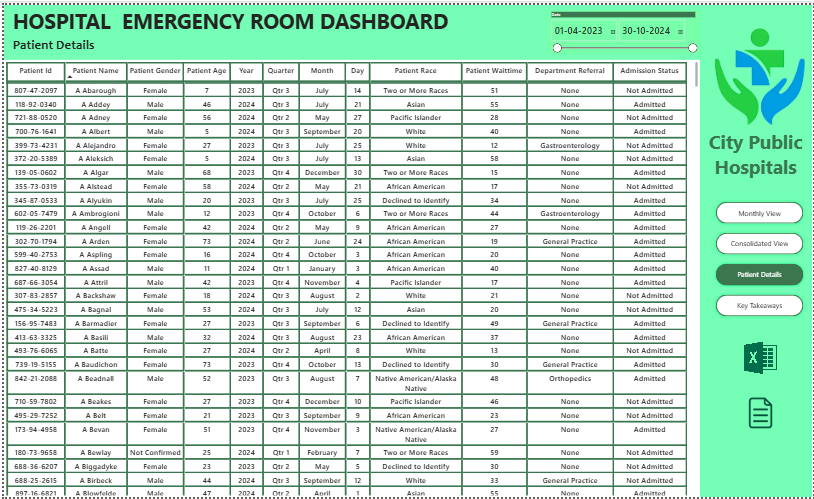

The dashboard page shown, as its layout file describes it:
{"tool":"powerbi","page":{"name":"Patient Details","canvas":[2300,1400],"ordinal":2},"visuals":[{"type":"shape","box":[1980.5,0,318.7,1400],"z":0},{"type":"pageNavigator","box":[2020,550,265,345],"z":0,"group":"g1"},{"type":"shape","box":[0,0,1980.9,156.4],"z":1000},{"type":"image","box":[1995,25,305,362.5],"z":1000,"group":"g1"},{"type":"textbox","box":[0,0,1289,105.3],"z":2000},{"type":"textbox","box":[1987.5,347.5,305,152.5],"z":2000,"group":"g1"},{"type":"textbox","box":[19.9,85.4,270.3,71.1],"z":3000},{"type":"slicer","fields":{"Values":["Date Table.Date"]},"box":[1545.1,14.2,435.4,125.2],"z":4000},{"type":"tableEx","fields":{"Values":["Hospital ER_Data.Patient Id","Hospital ER_Data.Patient Full Name","Hospital ER_Data.Patient Gender","Sum(Hospital ER_Data.Patient Age)","Hospital ER_Data.Patient Admission Date.Variation.Date Hierarchy.Year","Hospital ER_Data.Patient Admission Date.Variation.Date Hierarchy.Quarter","Hospital ER_Data.Patient Admission Date.Variation.Date Hierarchy.Month","Hospital ER_Data.Patient Admission Date.Variation.Date Hierarchy.Day","Hospital ER_Data.Patient Race","Sum(Hospital ER_Data.Patient Waittime)","Hospital ER_Data.Department Referral","Hospital ER_Data.Admission Status"]},"box":[0,155.7,1980,1244.3],"z":5000},{"type":"group","id":"g1","title":"Group 11","box":[1987.5,25,312.5,870],"z":6000},{"type":"image","box":[2087.5,932.5,127.5,145],"z":6001},{"type":"image","box":[2094.3,1104.3,117.1,117.1],"z":6002}]}

Visuals, with their boxes in screenshot pixels (x1, y1, x2, y2), scaled from the page's 2300x1400 canvas onto the 814x499 screenshot:
shape: bbox(701, 0, 813, 498)
pageNavigator: bbox(715, 196, 809, 319)
shape: bbox(0, 0, 701, 56)
image: bbox(706, 9, 813, 138)
textbox: bbox(0, 0, 456, 38)
textbox: bbox(703, 124, 811, 178)
textbox: bbox(7, 30, 103, 56)
slicer - Date Table.Date: bbox(547, 5, 701, 50)
tableEx - Hospital ER_Data.Patient Id x Hospital ER_Data.Patient Full Name: bbox(0, 55, 701, 498)
"Group 11" group: bbox(703, 9, 813, 319)
image: bbox(739, 332, 784, 384)
image: bbox(741, 394, 783, 435)
